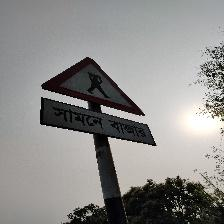Market-in-front: (39, 56, 155, 147)
